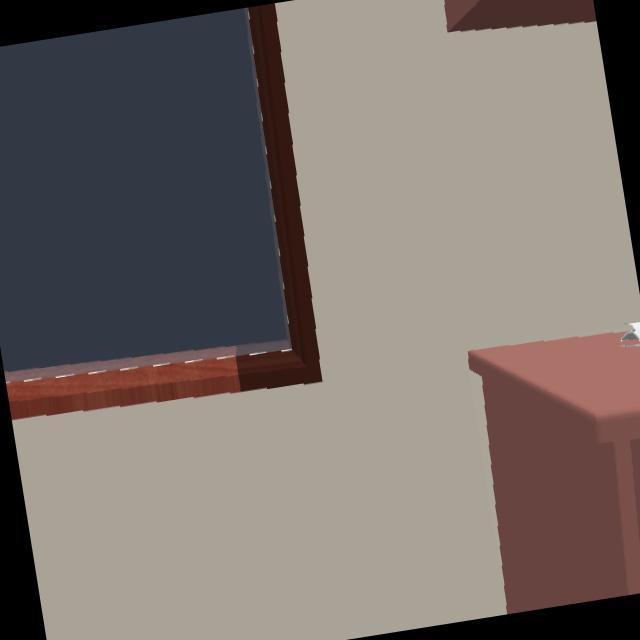table: (468, 333, 640, 613)
